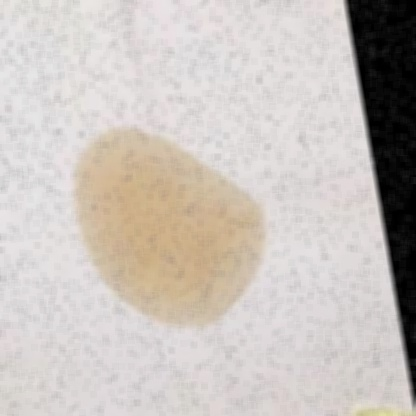coffee: (75, 125, 262, 331)
